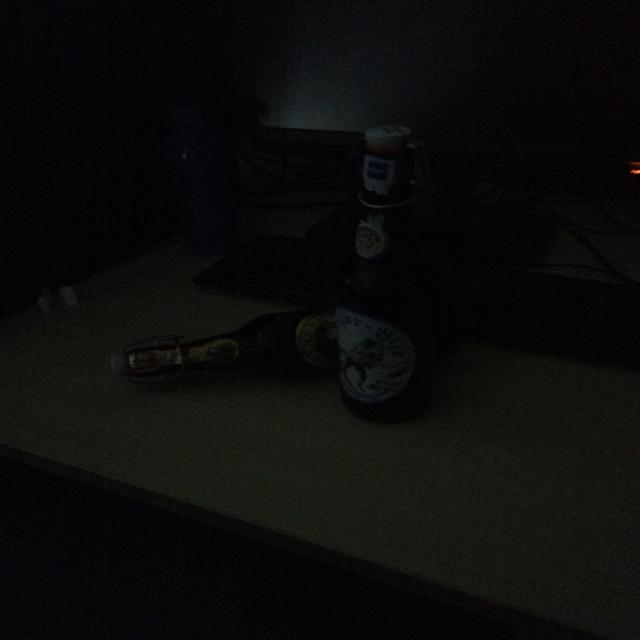Bottle: (312, 75, 458, 427), (61, 281, 455, 403)
Table: (0, 163, 632, 637)
